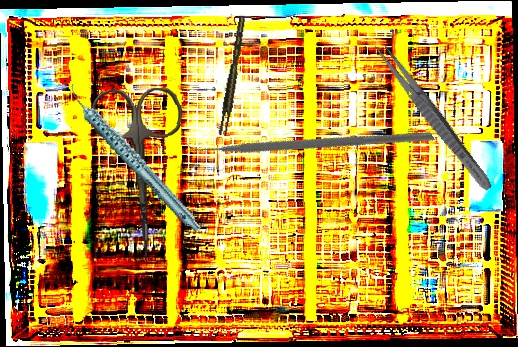Chopper: (179, 14, 435, 258)
Dressing Forceps: (369, 38, 497, 195)
Handpiece: (66, 62, 202, 253)
Iris Scissors: (90, 86, 190, 260)
Tissue Forceps: (214, 16, 252, 137)
